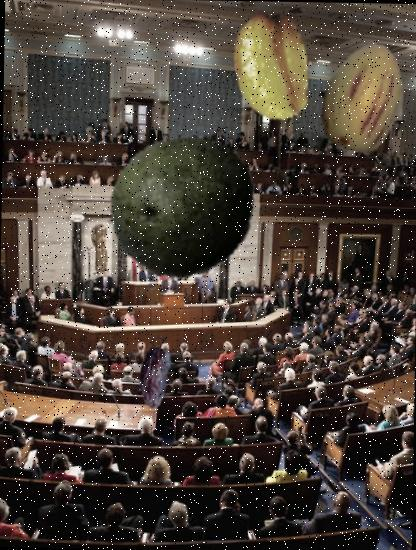Avocado: (108, 132, 258, 282)
Carambula: (216, 9, 330, 124)
Dates: (122, 346, 184, 409)
Pepino: (303, 39, 416, 154)
